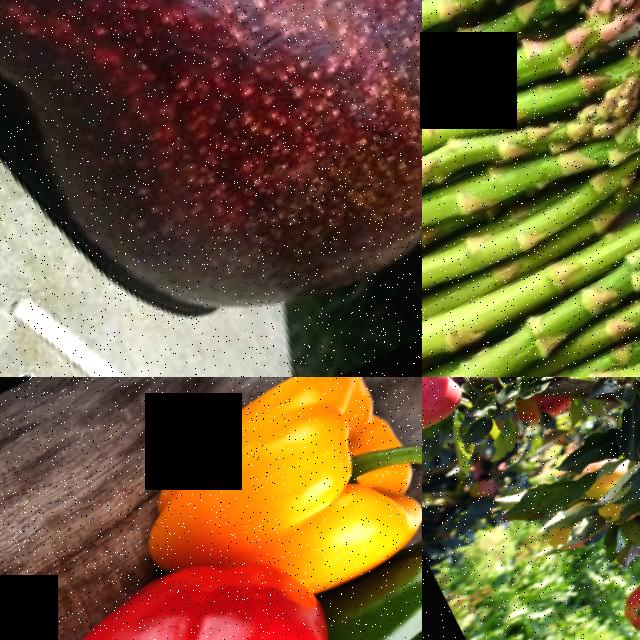apple: (422, 377, 477, 452), (603, 547, 640, 640), (514, 387, 572, 432)
asparagus: (422, 165, 640, 377), (422, 0, 636, 168), (450, 0, 640, 162), (454, 88, 640, 236), (422, 0, 599, 136), (422, 271, 640, 377), (422, 0, 620, 114)
avocado: (0, 0, 422, 377)
bell pepper: (205, 377, 422, 605), (0, 543, 344, 640), (299, 518, 422, 640)
